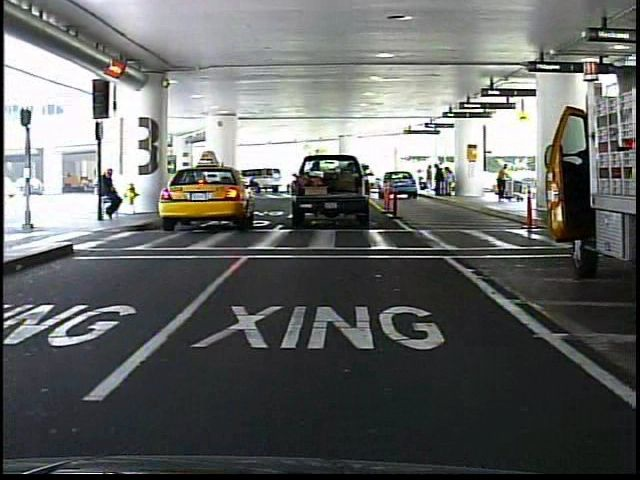person: (99, 163, 127, 225), (494, 159, 514, 207)
